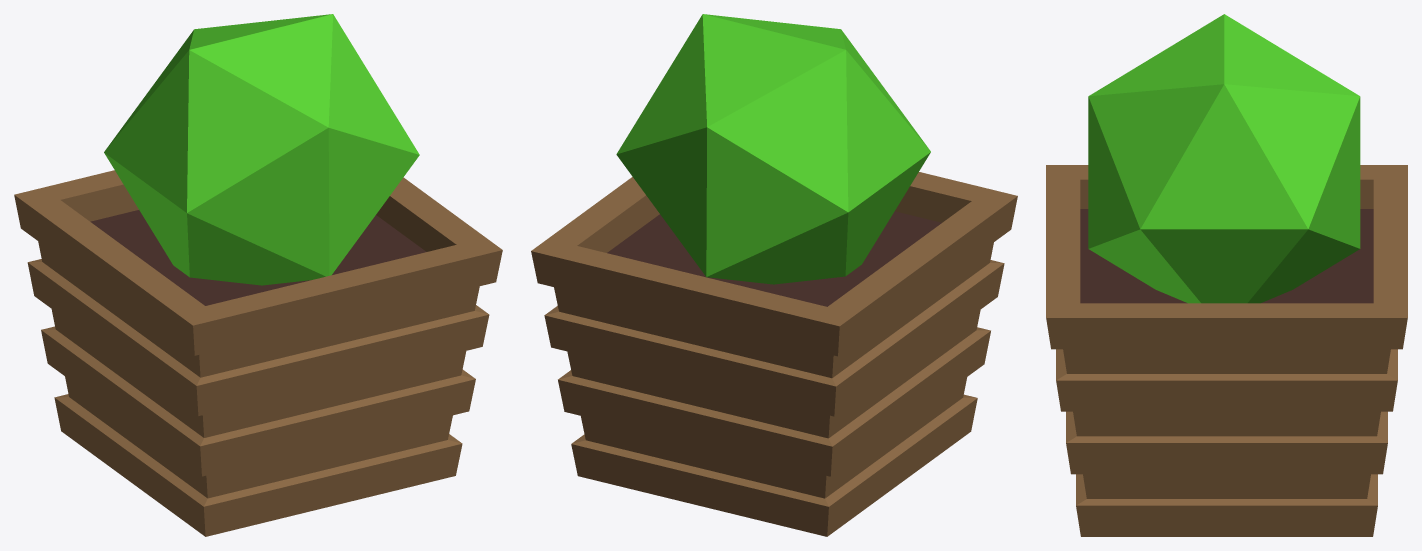
File: Potted Plant 1.fbx
3 renders of one model, left to right at view 1: azimuth 30°, elevation 25°; view 2: azimuth 150°, elevation 25°; view 3: azimuth 270°, elevation 25°, orthographic.
Parts seen in each view (by area): view 1: Potted Plant 1; view 2: Potted Plant 1; view 3: Potted Plant 1.
Boxes of the visible parts, left/top/right/bottom form: Potted Plant 1: left=14, top=14, right=502, bottom=536; Potted Plant 1: left=531, top=14, right=1017, bottom=536; Potted Plant 1: left=1046, top=14, right=1407, bottom=536.
Bounding box in the file's own units: 96.59 × 126 × 96.59.
1 material, 1 textured.
